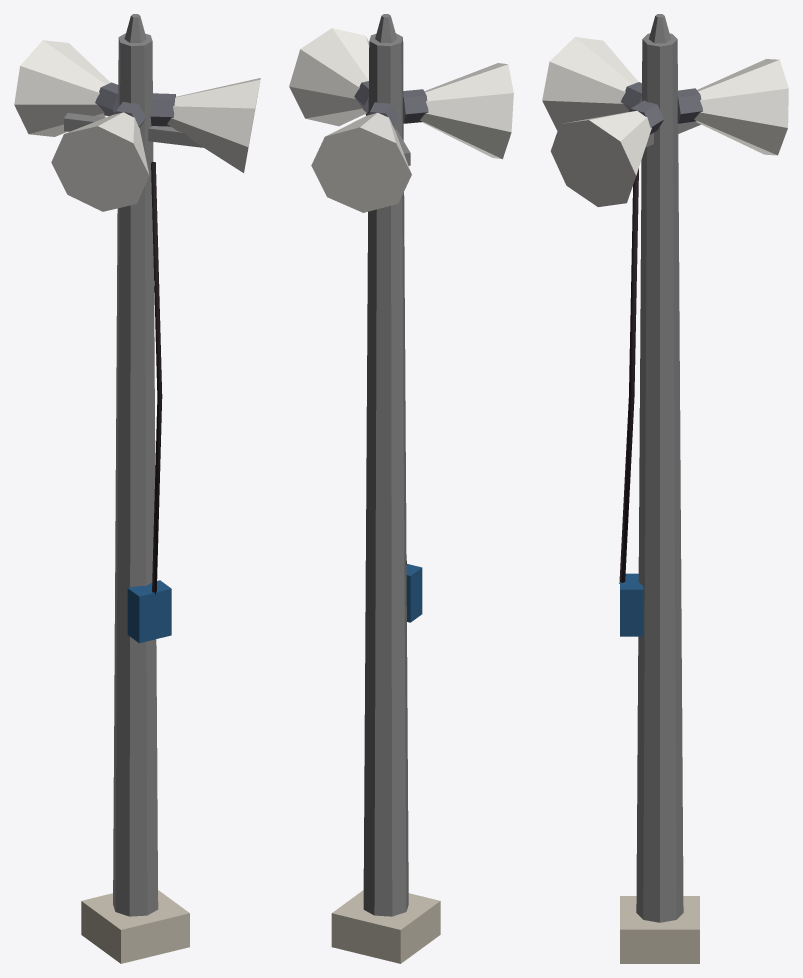
File: loa-phuong.glb
The picture shows the model from 3 angles, left to right: view 1: azimuth 30°, elevation 25°; view 2: azimuth 150°, elevation 25°; view 3: azimuth 270°, elevation 25°; orthographic projection.
Parts seen in each view (by area): view 1: loa-phuong-1, loa-phuong-5, loa-phuong-0, loa-phuong-2, loa-phuong-3, loa-phuong-6, loa-phuong-4; view 2: loa-phuong-1, loa-phuong-5, loa-phuong-0, loa-phuong-6, loa-phuong-2; view 3: loa-phuong-1, loa-phuong-5, loa-phuong-0, loa-phuong-3, loa-phuong-6, loa-phuong-2.
Part boxes in pixels (bbox=[...]): loa-phuong-1: bbox=[113, 33, 158, 916]; loa-phuong-5: bbox=[14, 40, 260, 211]; loa-phuong-0: bbox=[81, 890, 189, 963]; loa-phuong-2: bbox=[127, 580, 171, 643]; loa-phuong-3: bbox=[151, 162, 162, 594]; loa-phuong-6: bbox=[95, 82, 175, 127]; loa-phuong-4: bbox=[64, 113, 203, 147]; loa-phuong-1: bbox=[363, 33, 408, 916]; loa-phuong-5: bbox=[289, 28, 513, 212]; loa-phuong-0: bbox=[331, 890, 440, 963]; loa-phuong-6: bbox=[354, 81, 428, 126]; loa-phuong-2: bbox=[406, 564, 422, 622]; loa-phuong-1: bbox=[636, 33, 683, 922]; loa-phuong-5: bbox=[542, 37, 788, 207]; loa-phuong-0: bbox=[620, 896, 699, 963]; loa-phuong-3: bbox=[619, 168, 638, 583]; loa-phuong-6: bbox=[621, 82, 702, 134]; loa-phuong-2: bbox=[620, 573, 643, 636].
Bounding box in the file's own units: 1.05 × 4.36 × 1.05.
